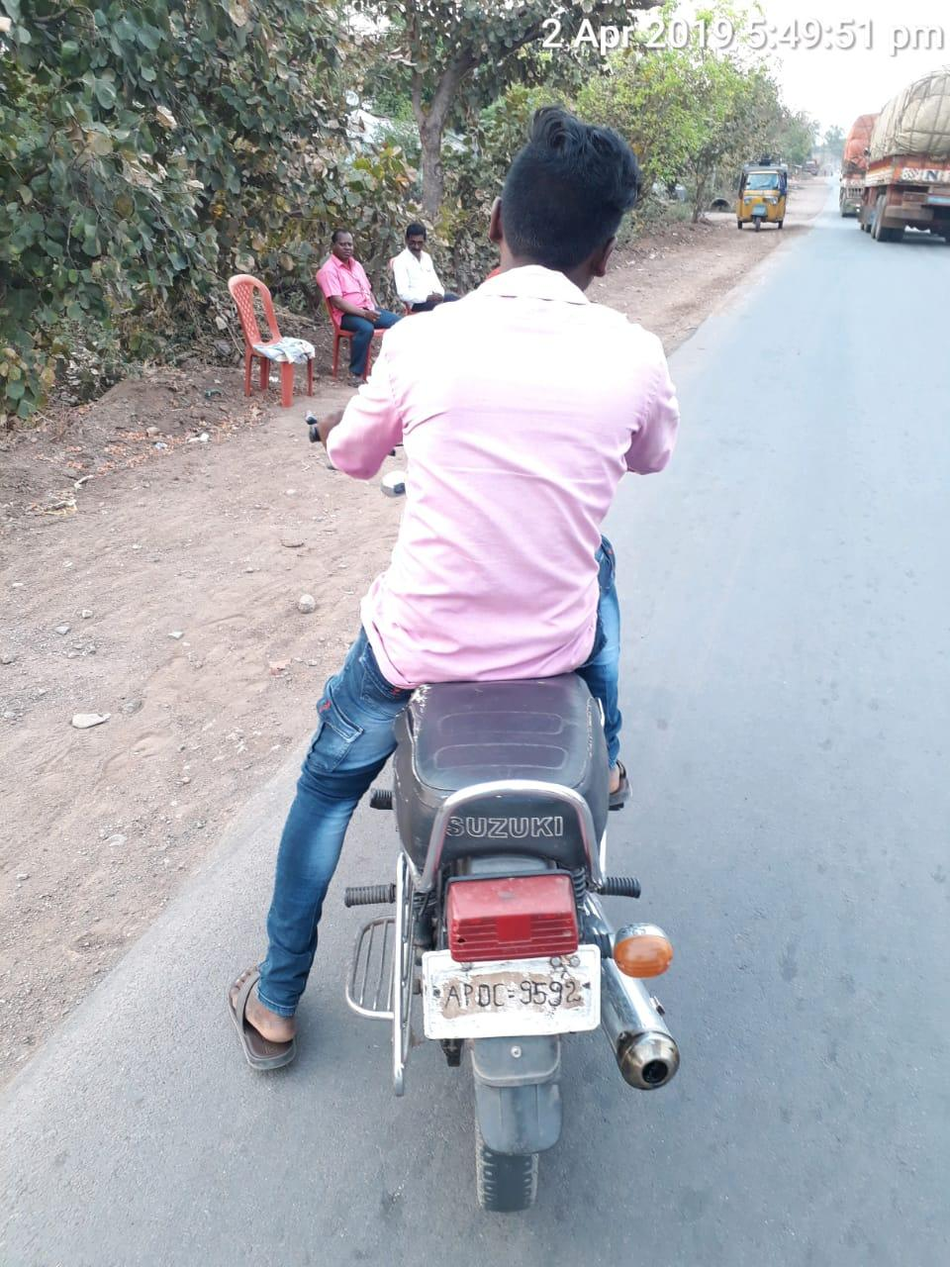plate: (401, 922, 616, 1050)
